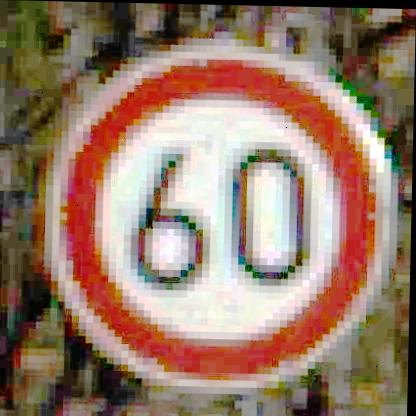Speed Limit -60-: (37, 44, 395, 392)
